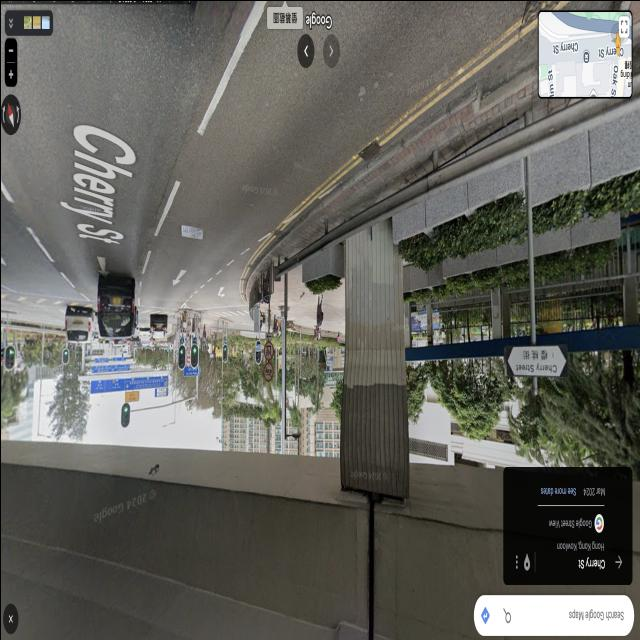Direction-Sign: (90, 375, 167, 393), (91, 363, 128, 373), (183, 365, 200, 375), (154, 387, 167, 396), (94, 357, 108, 362), (112, 357, 125, 361)
Order-Sign: (263, 342, 273, 359), (264, 364, 272, 381), (265, 332, 271, 340), (179, 336, 183, 344), (192, 337, 196, 342), (224, 338, 227, 344)
Street-Direction-Sign: (506, 344, 567, 376)
